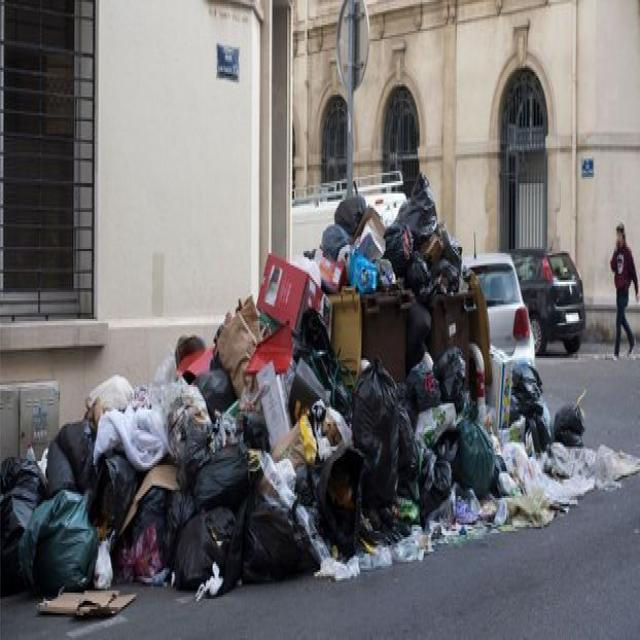garbage: (0, 354, 588, 628), (304, 176, 476, 305), (213, 249, 337, 360)
